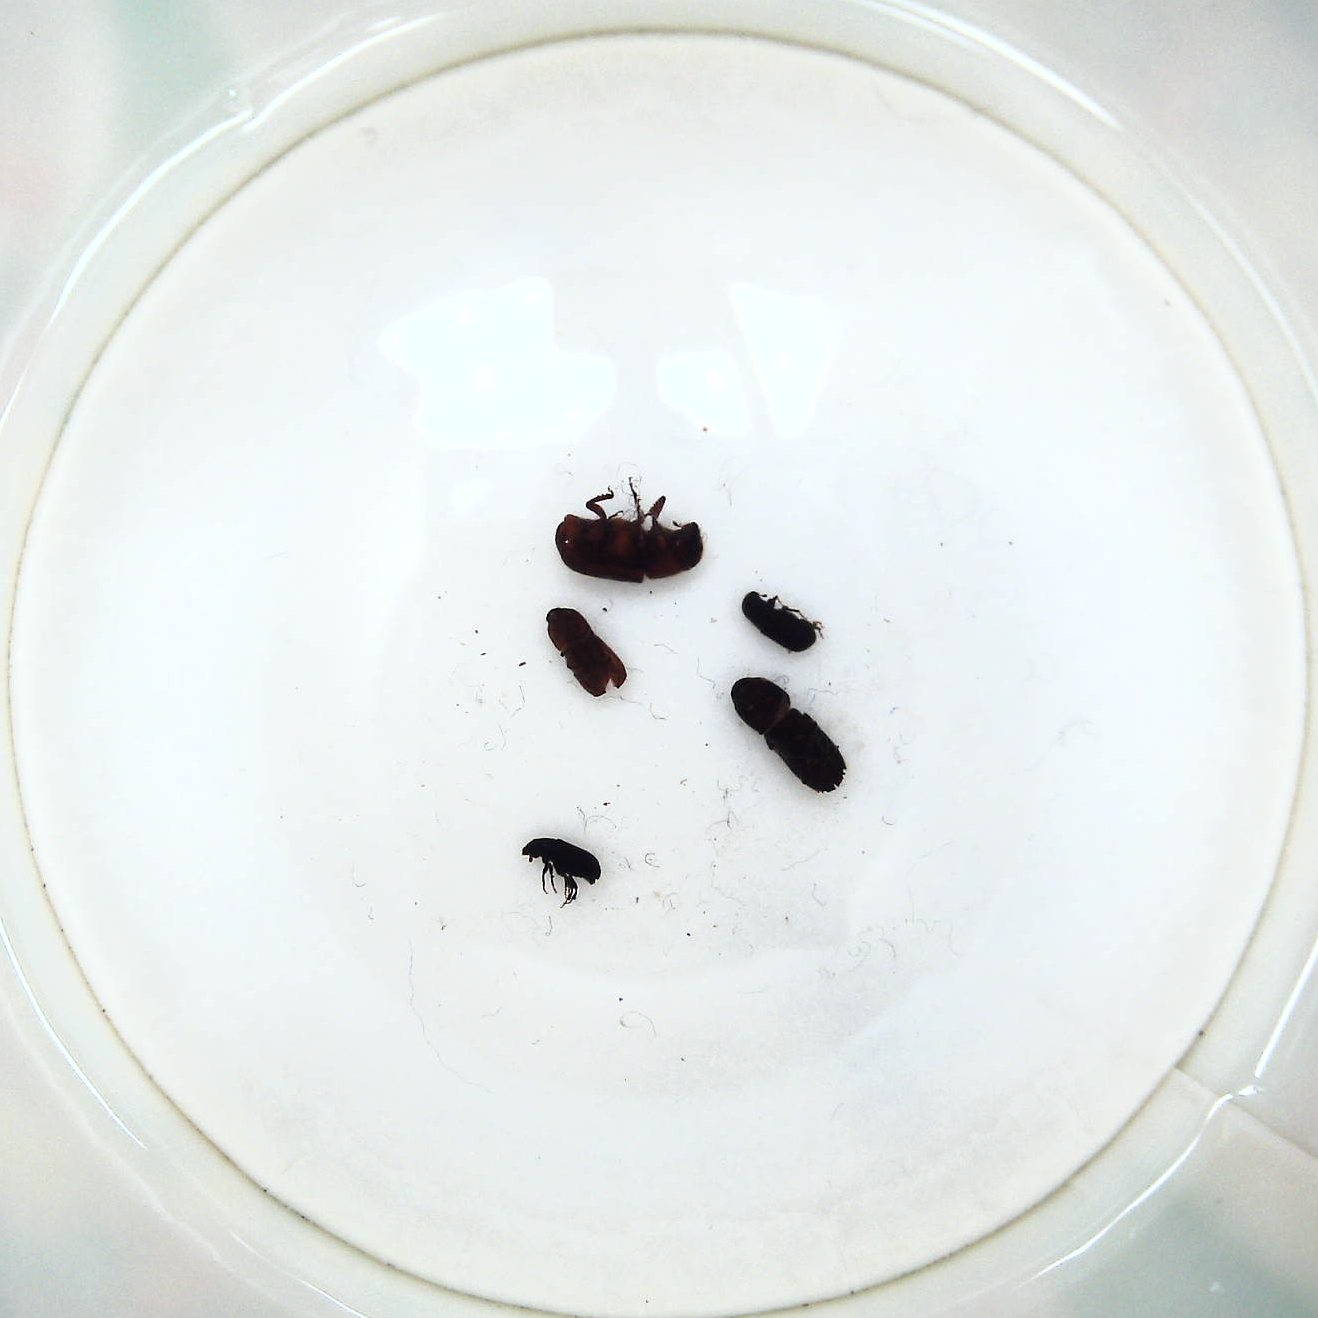Boerner: (723, 673, 847, 800)
Leconte: (547, 486, 710, 587)
armandi: (737, 583, 820, 659)
coleoptera: (515, 832, 603, 910)
linnaeus: (542, 600, 626, 705)
